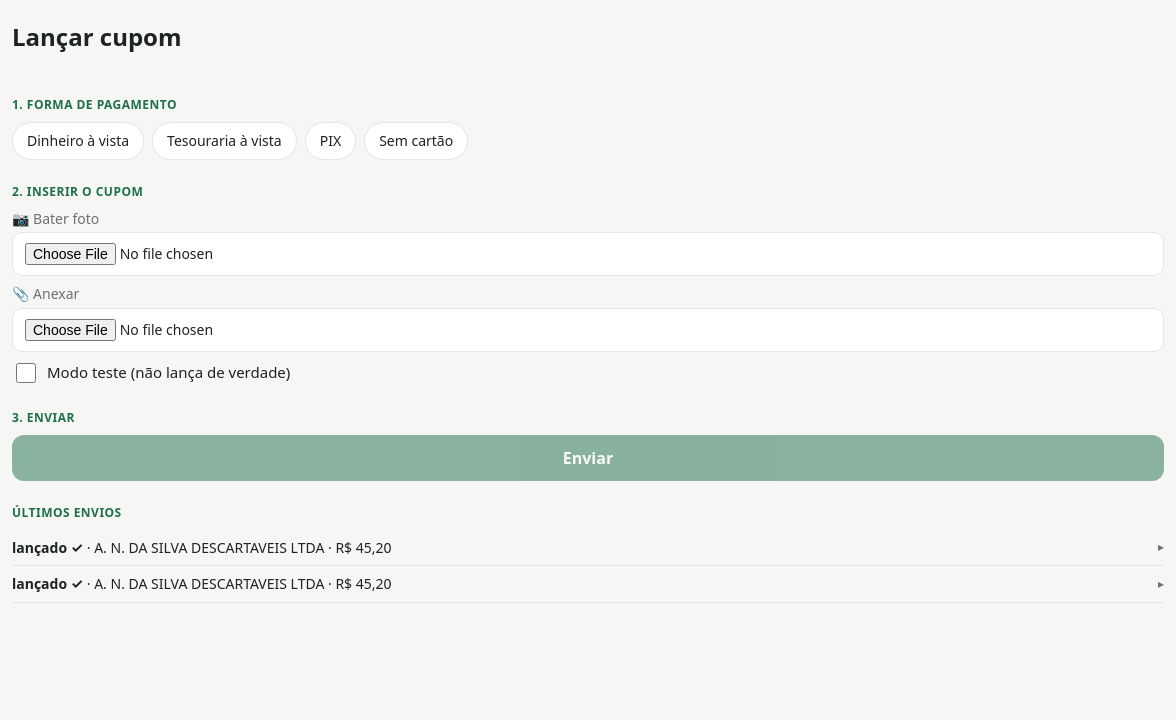
Cupom — aviso de CNPJ lido errado no detalhe do cupom › só o cupom com CNPJ suspeito leva o aviso: numa lista com um bom e um suspeito, é um aviso só
The image size is (1176, 720).
Click the 1st button "lançado ✓ · A. N. DA SILVA DESCARTAVEIS LTDA · R$ 45,20 ▸". click: x=48, y=547
box: [12,530,1164,565]
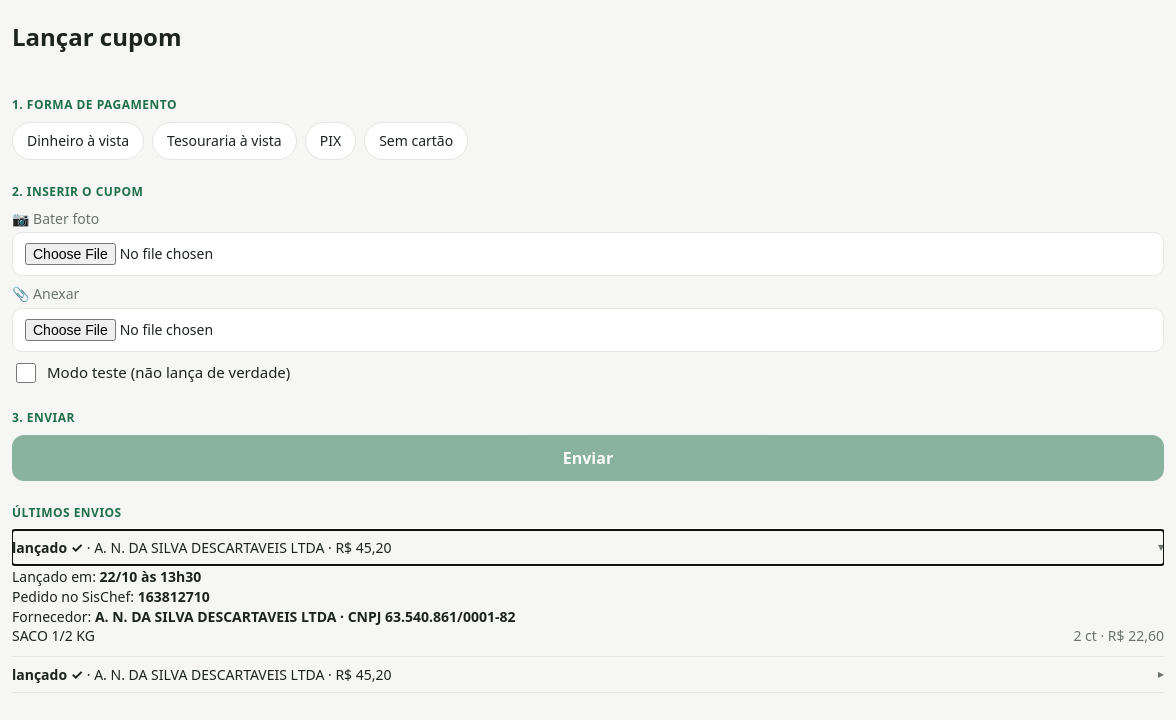
Click the button "lançado ✓ · A. N. DA SILVA DESCARTAVEIS LTDA · R$ 45,20 ▸". click: x=48, y=674
box: [12,657,1164,692]
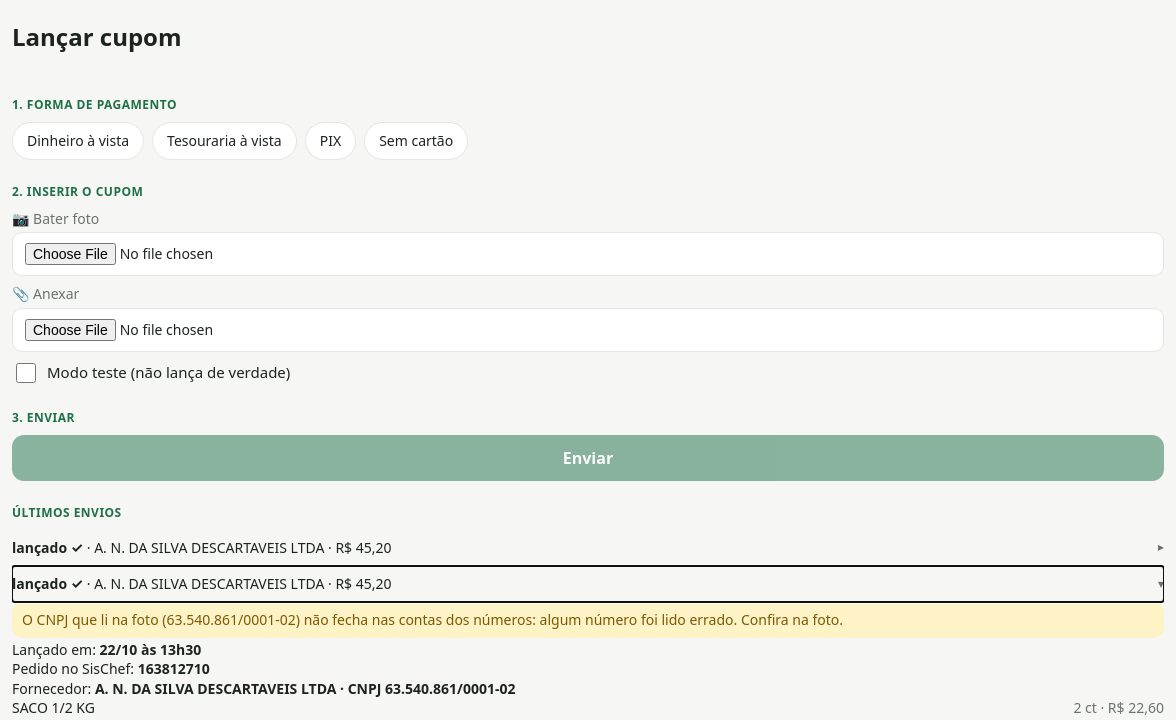
Expected: the number of elements with test id "cnpj-suspeito" is 1, [12,602,1164,638]
